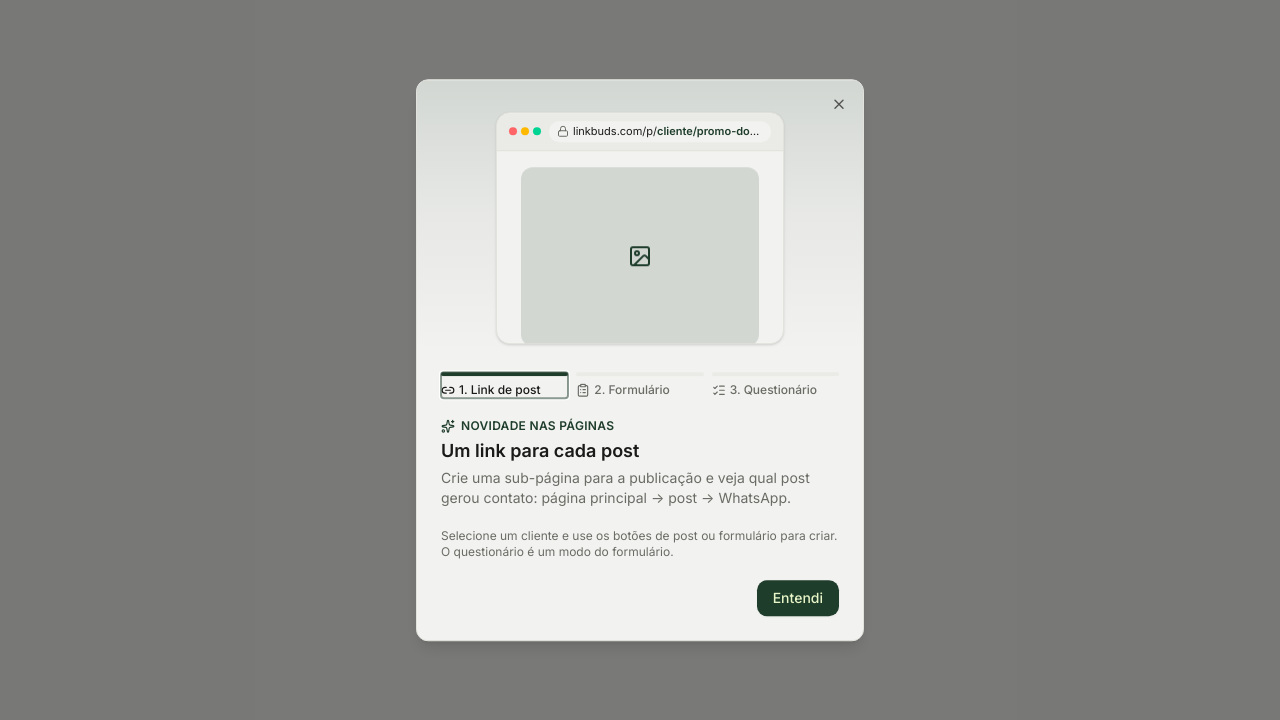
Test: SubPagesPromoDialog › stops alternating once a step is picked
Step 1. Click the tab "2. Formulário" → coordinates (640, 385), box 576,372 -> 704,398
Wait 12000 ms
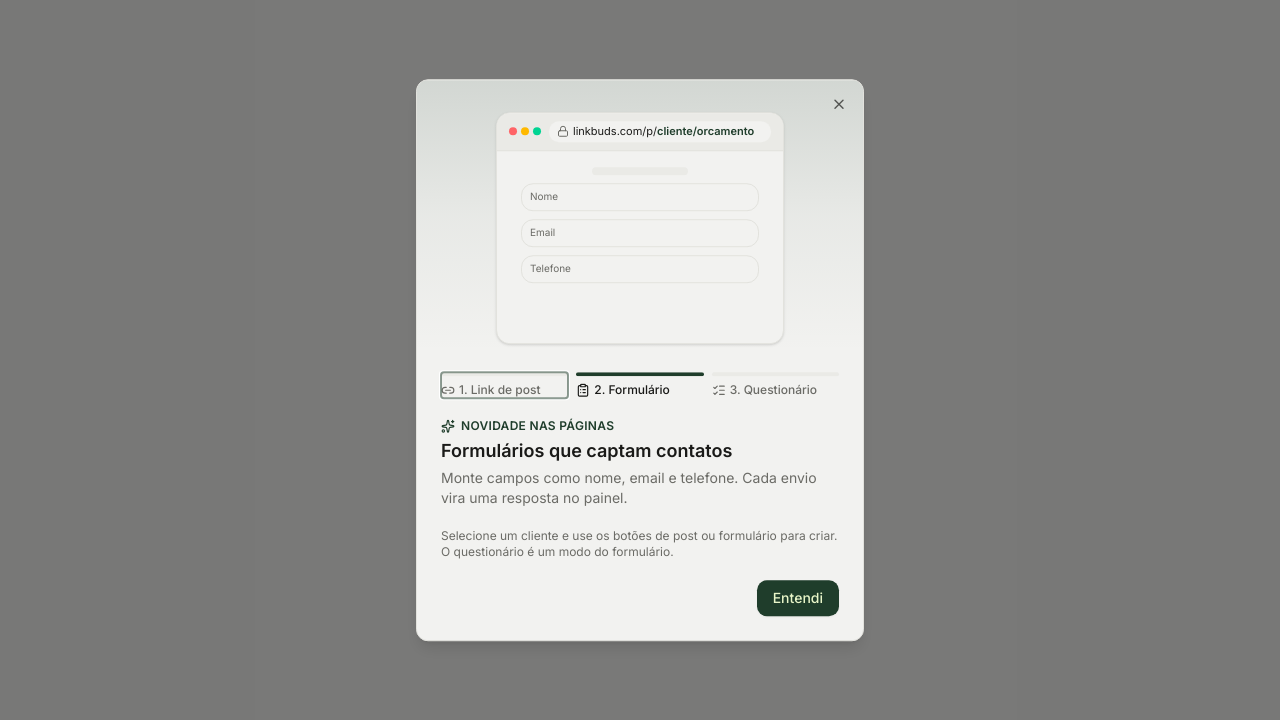
Expected: the heading "Formulários que captam contatos" is shown, 441,440 -> 732,461
